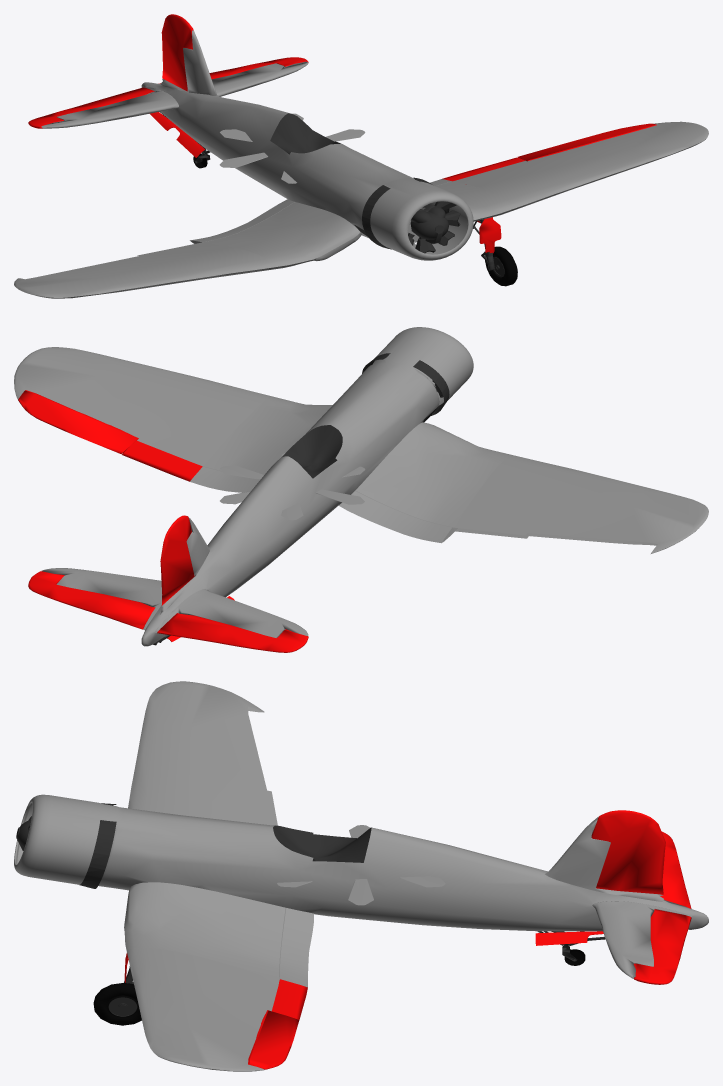
The model's file is Small airplane2.fbx.
3 views of the same model, one above another, from view 1: azimuth 30°, elevation 25°; view 2: azimuth 150°, elevation 25°; view 3: azimuth 270°, elevation 25° (orthographic). The views are drawn at different scales.
Visible parts, largest first — view 1: Body, Engine, Ruder, SystemWheelLeft, Elevators, Propellers, AleronLeft, SystemWheelBackDoor-Right, FlapLeft; view 2: Body, Elevators, AleronLeft, Ruder, FlapLeft, Propellers, Engine; view 3: Body, Ruder, Elevators, AleronLeft, SystemWheelLeft, Engine, Propellers, FlapLeft, SystemWheelBackDoor-Left.
Part boxes in pixels (box(x1,y1,x2,y2)): Body: box(14, 30, 708, 298); Engine: box(354, 177, 460, 253); Ruder: box(161, 14, 193, 91); SystemWheelLeft: box(473, 217, 517, 286); Elevators: box(28, 57, 308, 128); Propellers: box(219, 113, 365, 183); AleronLeft: box(518, 123, 656, 161); SystemWheelBackDoor-Right: box(149, 112, 204, 157); FlapLeft: box(442, 157, 525, 181); Body: box(14, 327, 708, 646); Elevators: box(28, 571, 308, 652); AleronLeft: box(18, 390, 138, 453); Ruder: box(160, 515, 194, 605); FlapLeft: box(122, 440, 202, 481); Propellers: box(220, 452, 365, 520); Engine: box(362, 353, 449, 422); Body: box(14, 681, 708, 1071); Ruder: box(591, 810, 665, 894); Elevators: box(633, 831, 691, 984); AleronLeft: box(248, 1010, 299, 1069); SystemWheelLeft: box(93, 953, 141, 1025); Engine: box(16, 803, 116, 888); Propellers: box(277, 825, 445, 905); FlapLeft: box(267, 979, 307, 1019); SystemWheelBackDoor-Left: box(535, 931, 603, 945).
Size of the model in its own units: 1002 by 199 by 767.
